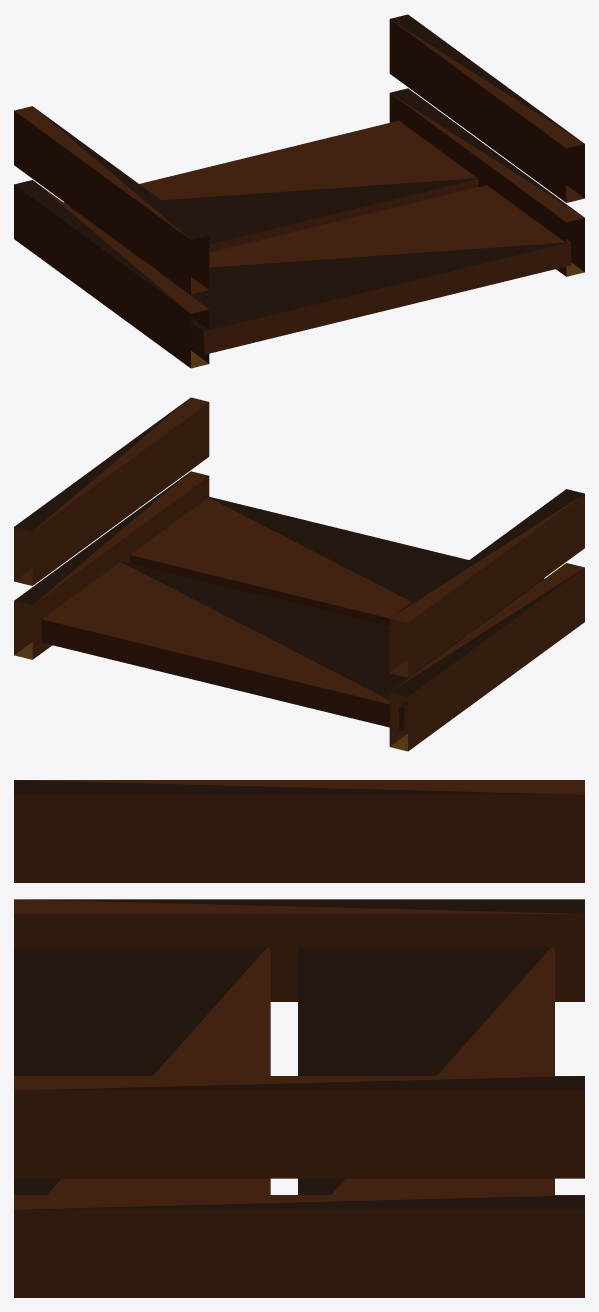
File: Bridge_3_middle.fbx
The picture shows the model from 3 angles, top to bottom: view 1: azimuth 30°, elevation 25°; view 2: azimuth 150°, elevation 25°; view 3: azimuth 270°, elevation 25°; orthographic projection. The views are drawn at different scales.
Visible parts, largest first — view 1: Bridge_3_middle; view 2: Bridge_3_middle; view 3: Bridge_3_middle.
Part boxes in pixels (<box>): Bridge_3_middle: <box>14,14,584,368</box>; Bridge_3_middle: <box>14,397,584,751</box>; Bridge_3_middle: <box>14,780,584,1297</box>.
Size of the model in its own units: 197 by 61.49 by 153.
